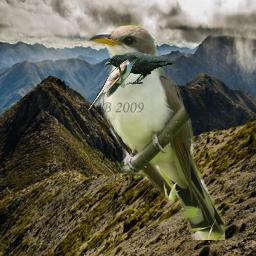Crow: (104, 52, 175, 85)
Cuckoo: (88, 22, 225, 240), (87, 55, 140, 111)
